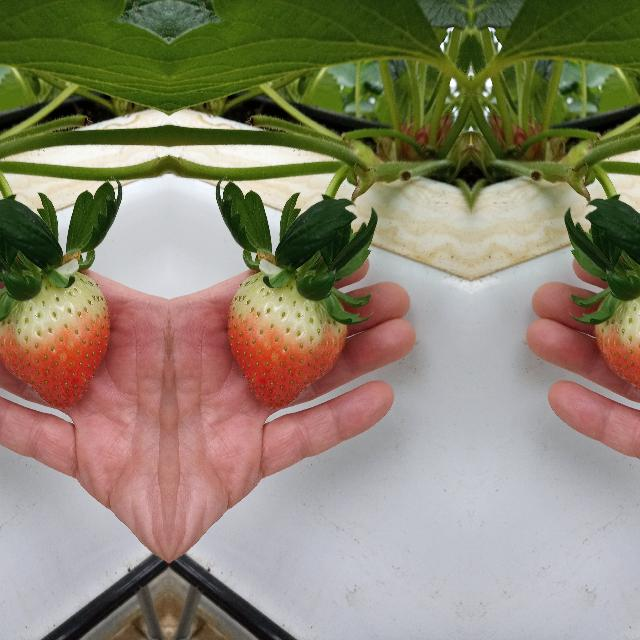Health_75: (226, 270, 346, 410), (0, 270, 110, 409), (594, 270, 640, 409)
